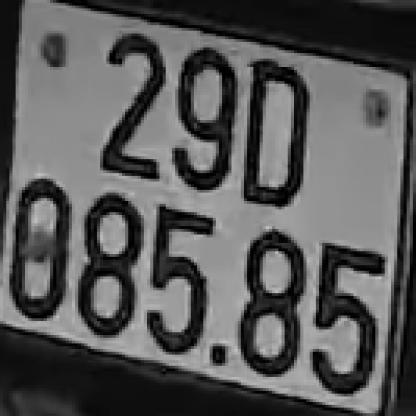0: (6, 181, 75, 318)
2: (100, 34, 163, 184)
5: (316, 240, 378, 391), (154, 207, 206, 349)
8: (238, 229, 303, 371), (81, 195, 141, 338)
9: (178, 50, 232, 193)
D: (235, 62, 312, 206)
